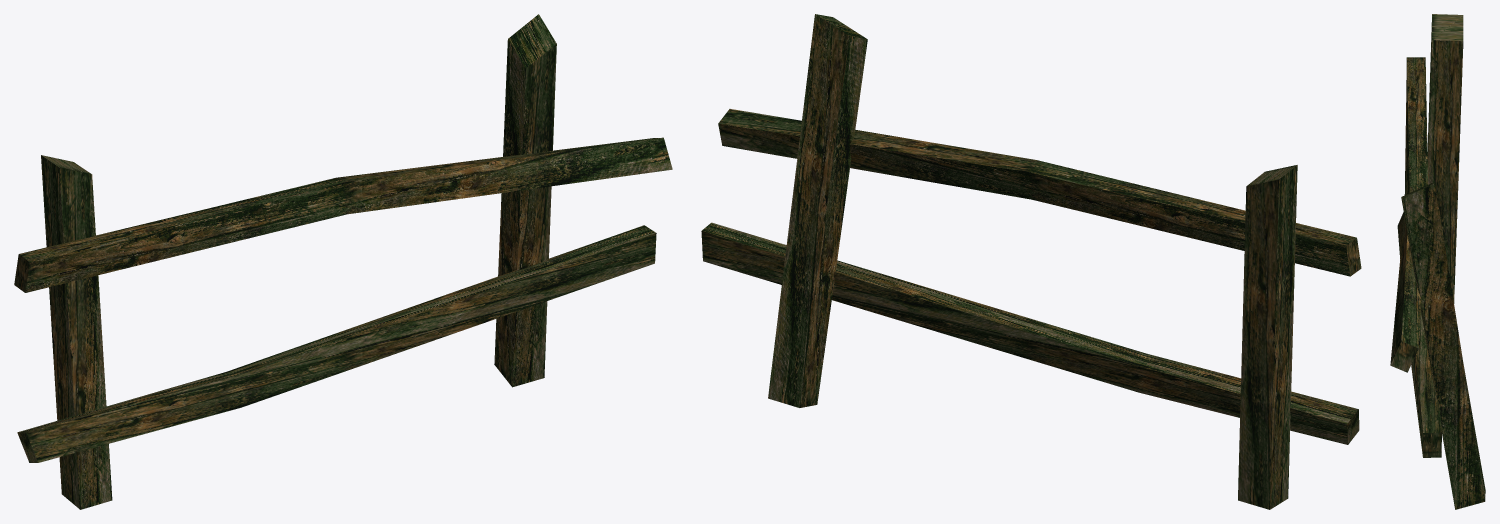
Rendered from plot.glb.
3 renders of one model, left to right at view 1: azimuth 30°, elevation 25°; view 2: azimuth 150°, elevation 25°; view 3: azimuth 270°, elevation 25°, orthographic. The views are drawn at different scales.
Visible parts, largest first — view 1: zengin; view 2: zengin; view 3: zengin.
Part boxes in pixels (<box>): zengin: <box>14,14,672,509</box>; zengin: <box>701,14,1361,509</box>; zengin: <box>1390,14,1485,509</box>.
Bounding box in the file's own units: 3.2 × 1.81 × 0.4866.
1 material, 1 textured.
